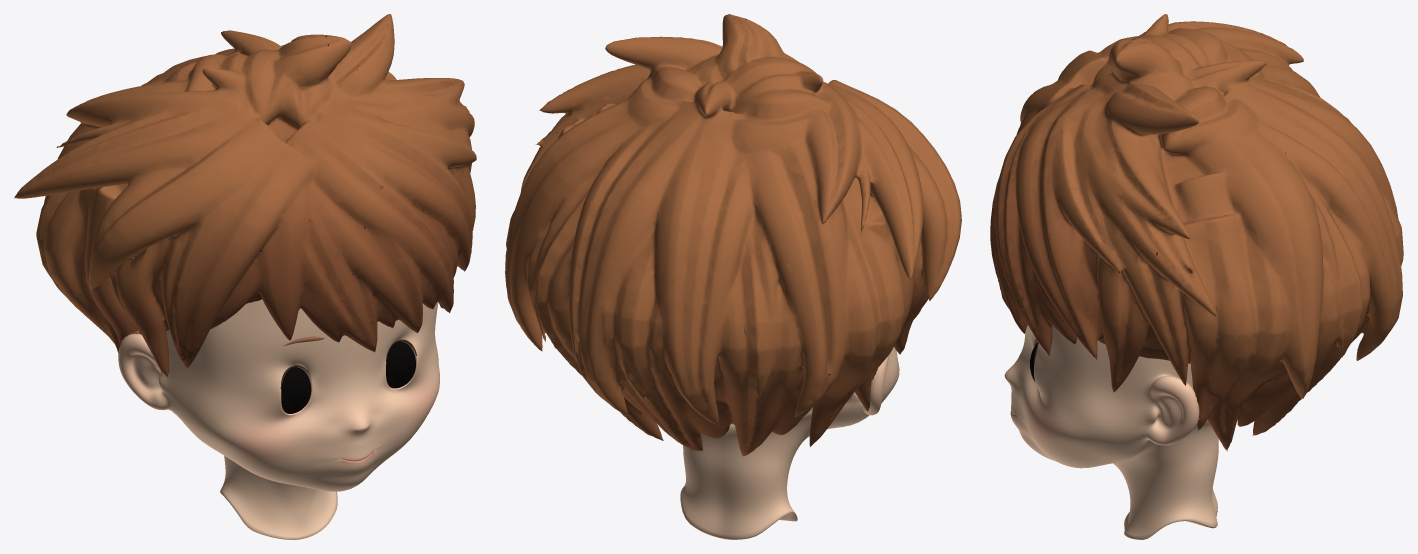
File: head_candidate_v002.glb
3 renders of one model, left to right at view 1: azimuth 30°, elevation 25°; view 2: azimuth 150°, elevation 25°; view 3: azimuth 270°, elevation 25°, orthographic.
Visible parts, largest first — view 1: SCULPT_HAIR, SCULPT_HEAD, SCULPT_EYE_L, SCULPT_EYE_R; view 2: SCULPT_HAIR, SCULPT_HEAD; view 3: SCULPT_HAIR, SCULPT_HEAD.
Part boxes in pixels (left/top/right/bottom): SCULPT_HAIR: left=14, top=14, right=476, bottom=377; SCULPT_HEAD: left=118, top=299, right=439, bottom=539; SCULPT_EYE_L: left=386, top=341, right=415, bottom=388; SCULPT_EYE_R: left=281, top=367, right=311, bottom=413; SCULPT_HAIR: left=505, top=14, right=961, bottom=456; SCULPT_HEAD: left=680, top=347, right=899, bottom=539; SCULPT_HAIR: left=990, top=14, right=1403, bottom=451; SCULPT_HEAD: left=1004, top=325, right=1218, bottom=539.
Size of the model in its own units: 0.4952 by 0.5601 by 0.4205.
Materials: 5 (3 with a texture image).
